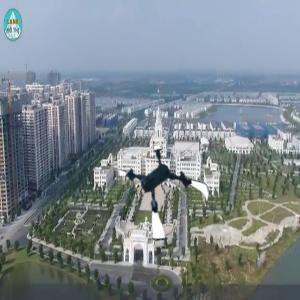drone: (117, 147, 211, 241)
